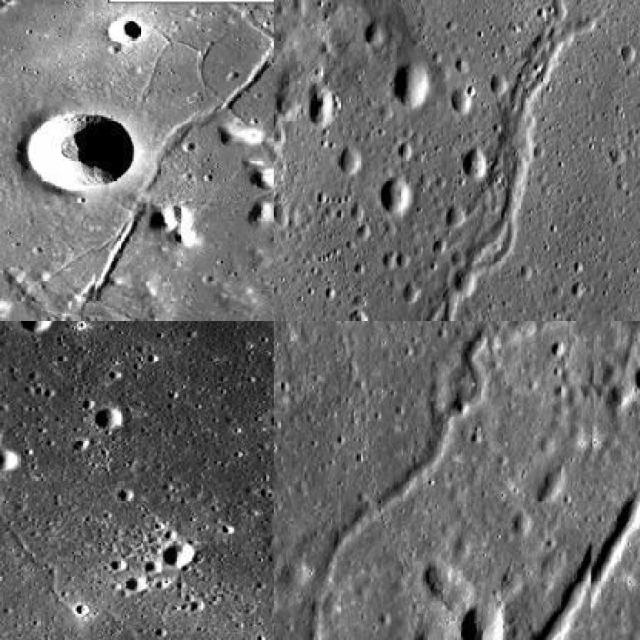rille: (289, 320, 580, 638), (357, 0, 597, 318), (0, 0, 227, 318), (74, 39, 272, 303), (0, 472, 272, 638), (434, 489, 638, 638)
